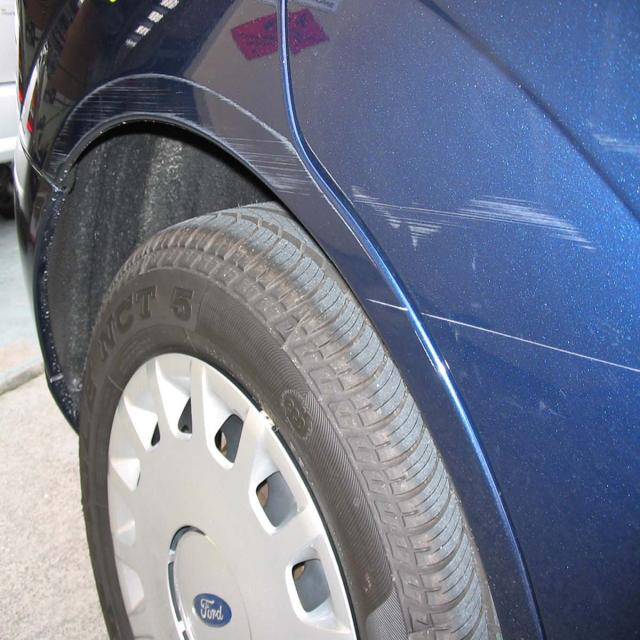scratch: (43, 72, 378, 271), (348, 184, 607, 253)
